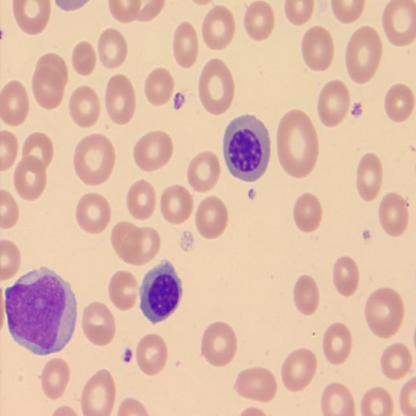NRC: (221, 112, 272, 184), (138, 256, 184, 324)
